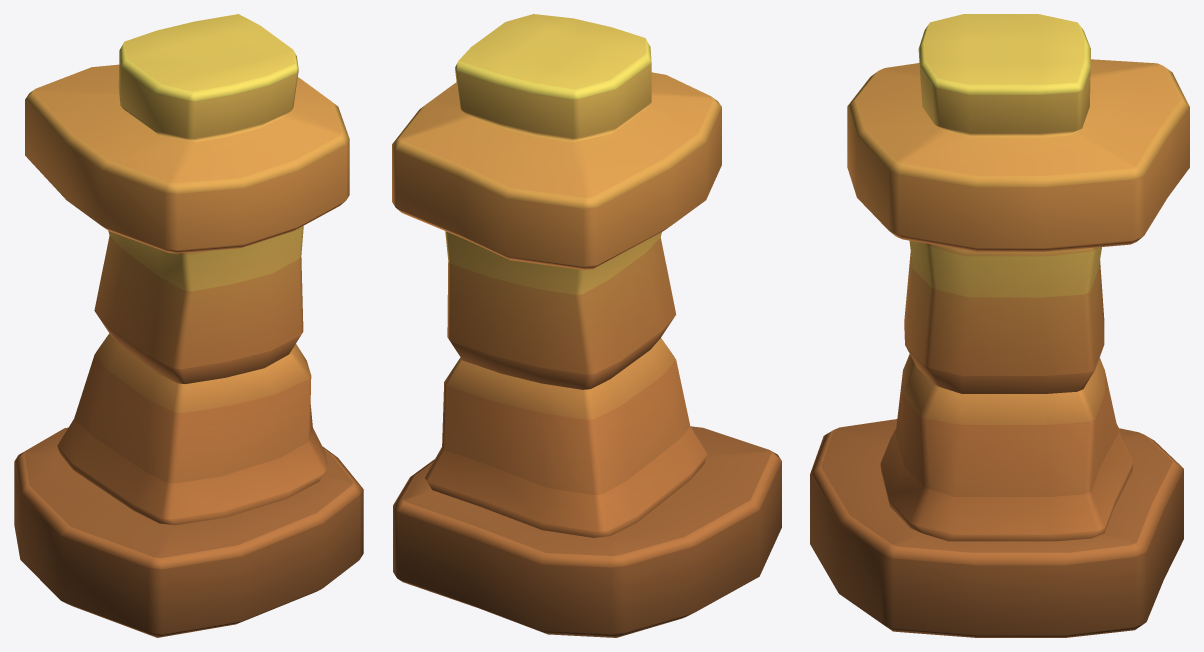
Rendered from rock_formation_light_05.fbx.
3 renders of one model, left to right at view 1: azimuth 30°, elevation 25°; view 2: azimuth 150°, elevation 25°; view 3: azimuth 270°, elevation 25°, orthographic. The views are drawn at different scales.
Parts seen in each view (by area): view 1: rock_formation_light_05; view 2: rock_formation_light_05; view 3: rock_formation_light_05.
Boxes of the visible parts, bbox=[...] form: rock_formation_light_05: bbox=[14, 14, 363, 637]; rock_formation_light_05: bbox=[392, 14, 781, 637]; rock_formation_light_05: bbox=[810, 14, 1189, 637].
Bounding box in the file's own units: 513 × 841 × 543.
